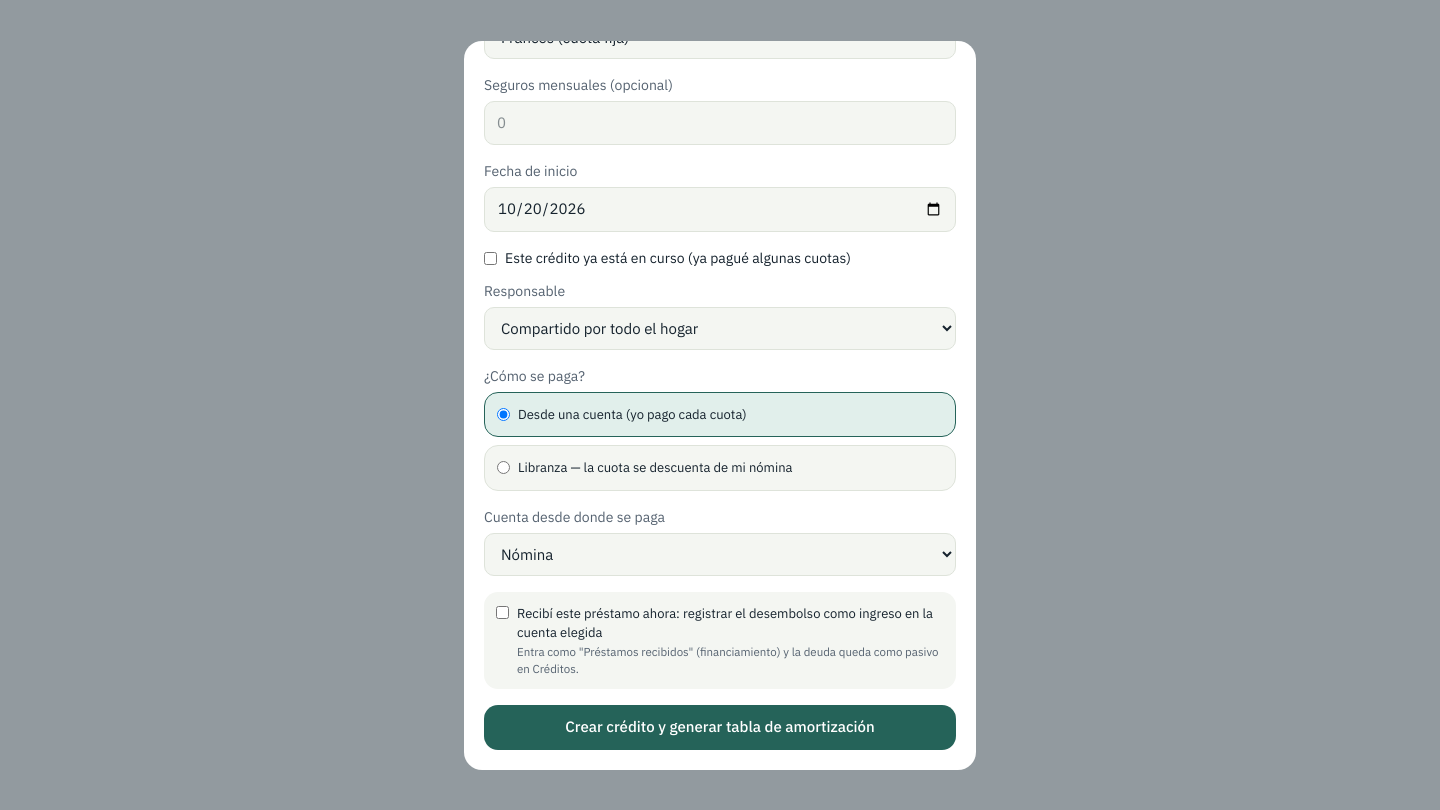
Créditos (prueba de humo) › CreditModal ofrece la libranza y pide el día de descuento
(page scrolled)
Expected: the text "Libranza — la cuota se descuenta de mi nómina" is shown, [518, 458, 792, 478]
Click the radio button labelled "Libranza — la cuota se descuenta de mi nómina" at (504, 468), box [497, 461, 510, 474]
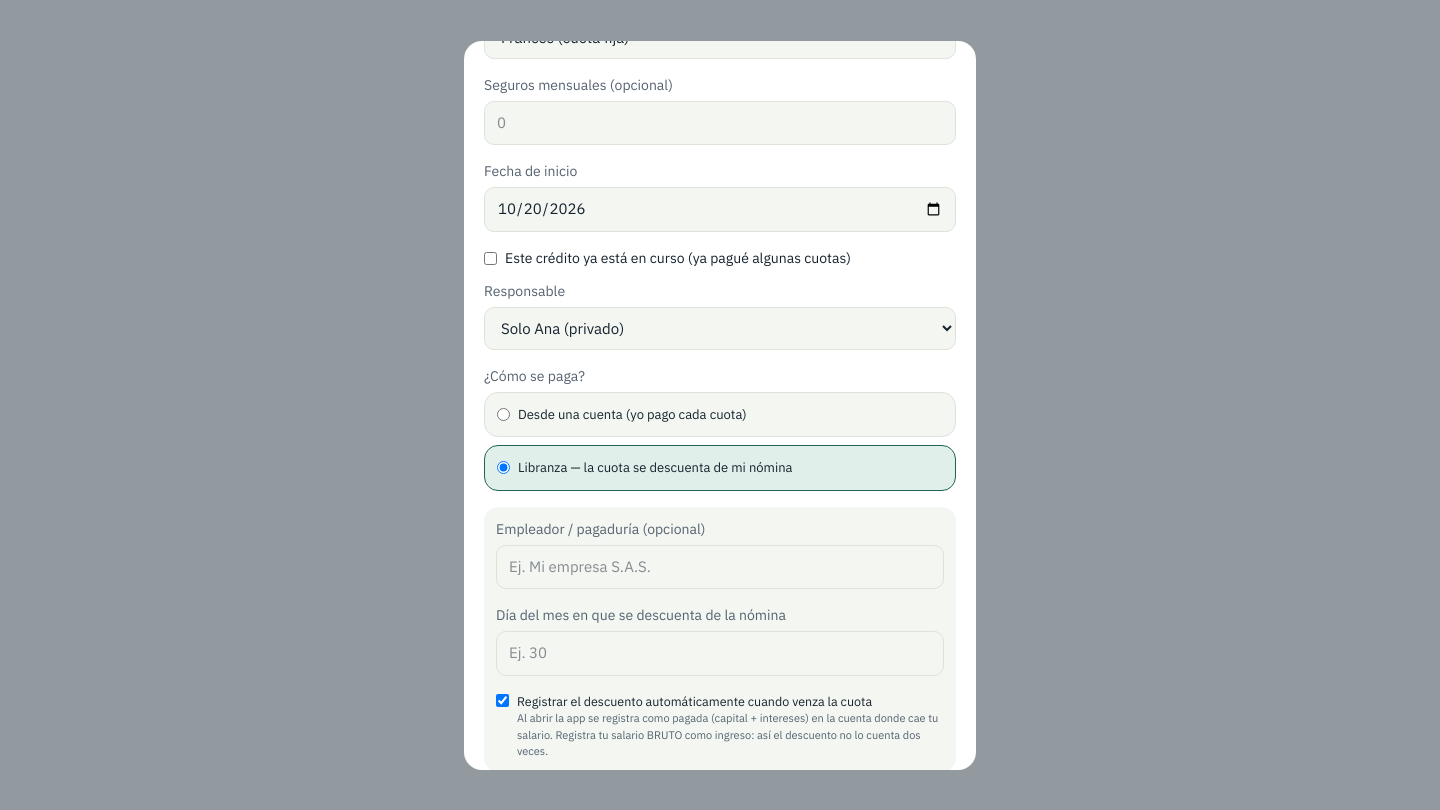
Result: the text "Día del mes en que se descuenta de la nómina" is shown at [496, 606, 786, 624]
